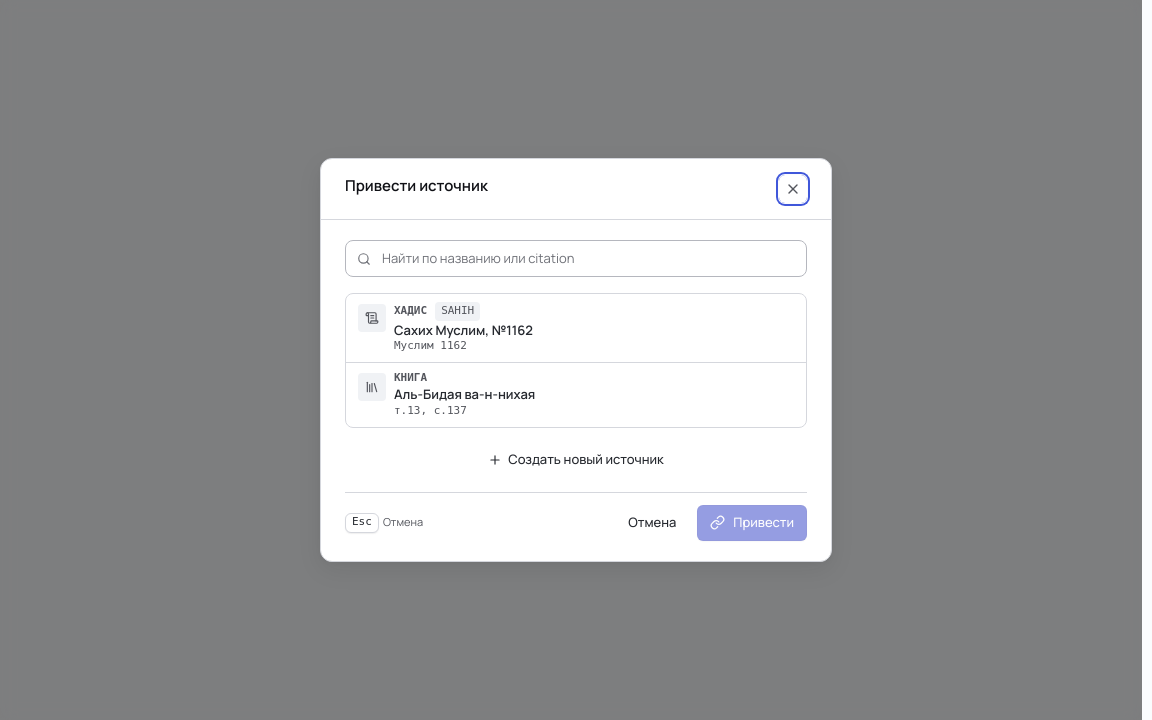
Test: AddSourceModal › пустой результат показывает плейсхолдер
Expected: the text "Сахих Муслим, №1162" is shown, [394,321,533,339]
Type "нет такого" into the field named "Поиск источника" at point(576, 259), box [345,240,807,277]
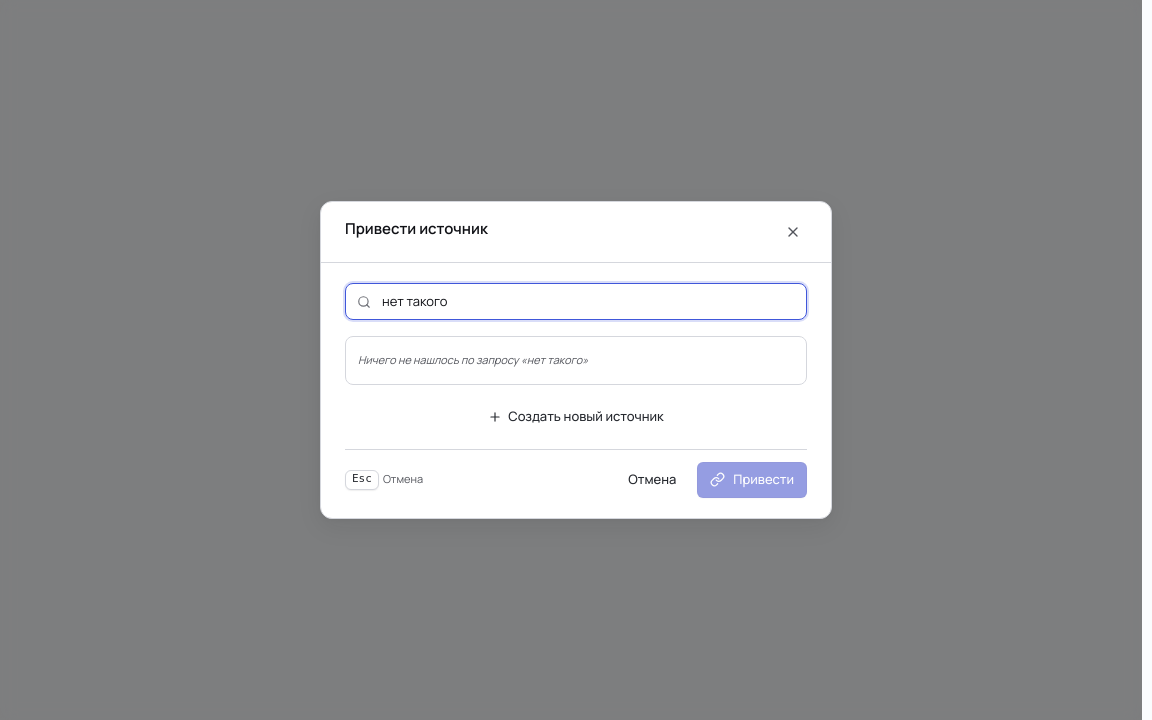
Expected: the text "Ничего не нашлось по запросу «нет такого»" is shown, [358,352,588,367]
